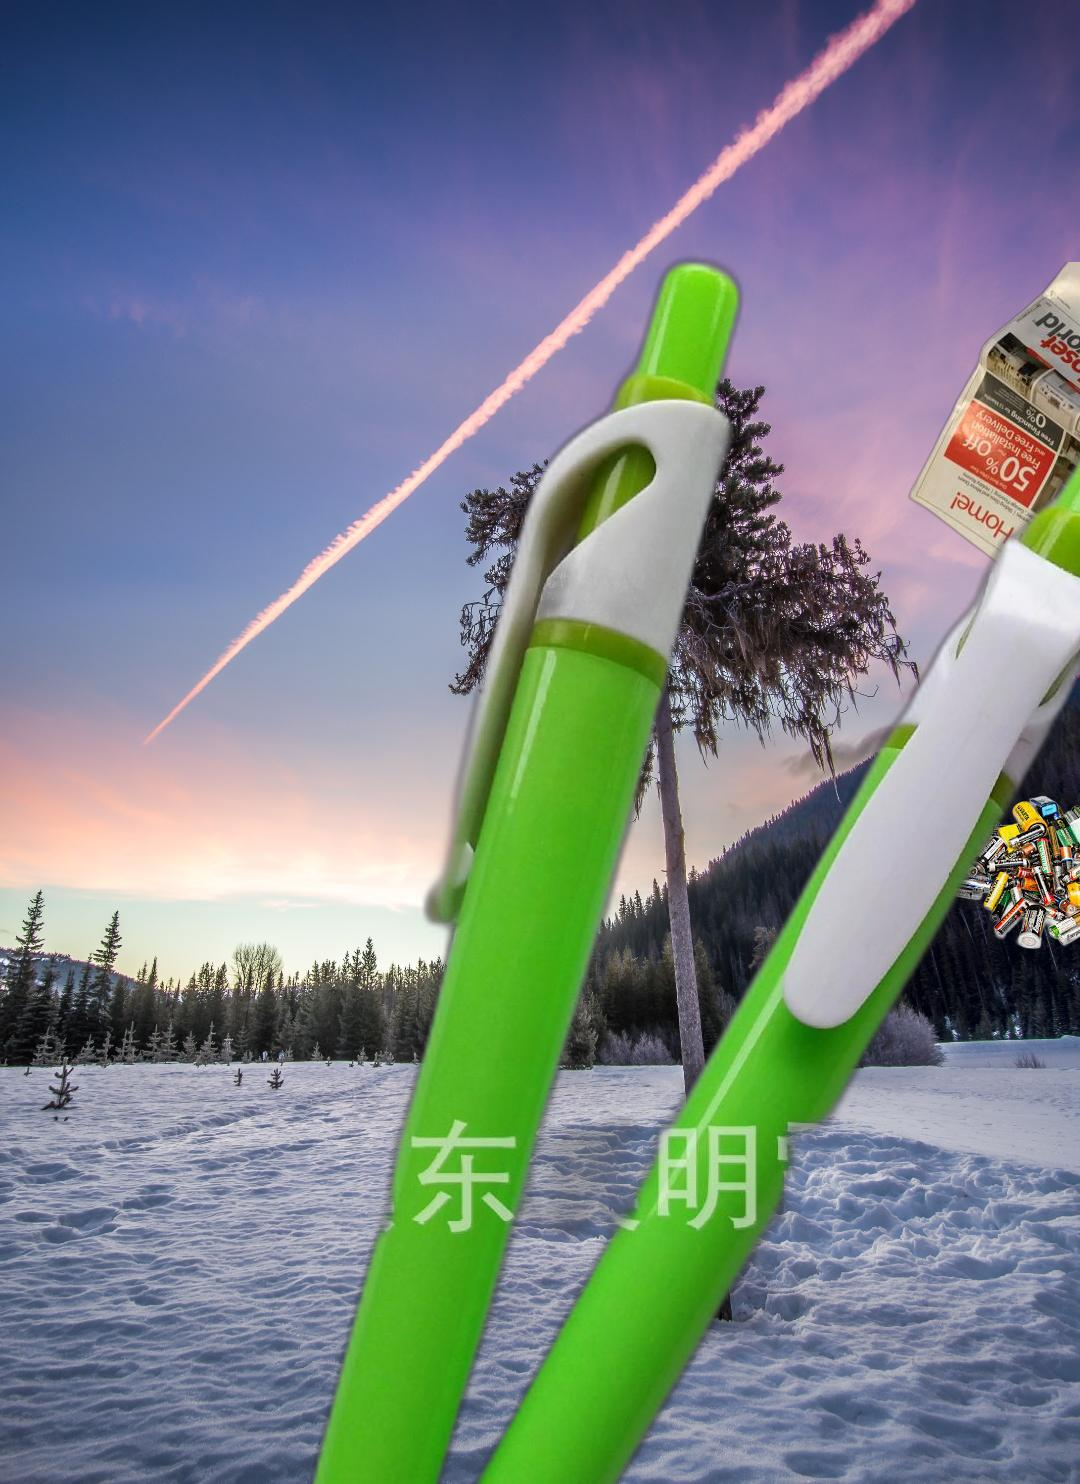battery: (938, 793, 1080, 952)
paper: (905, 262, 1080, 646)
penholder: (222, 245, 1080, 1484)
